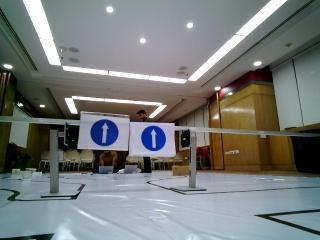straight: (129, 120, 176, 160), (81, 111, 127, 149)
